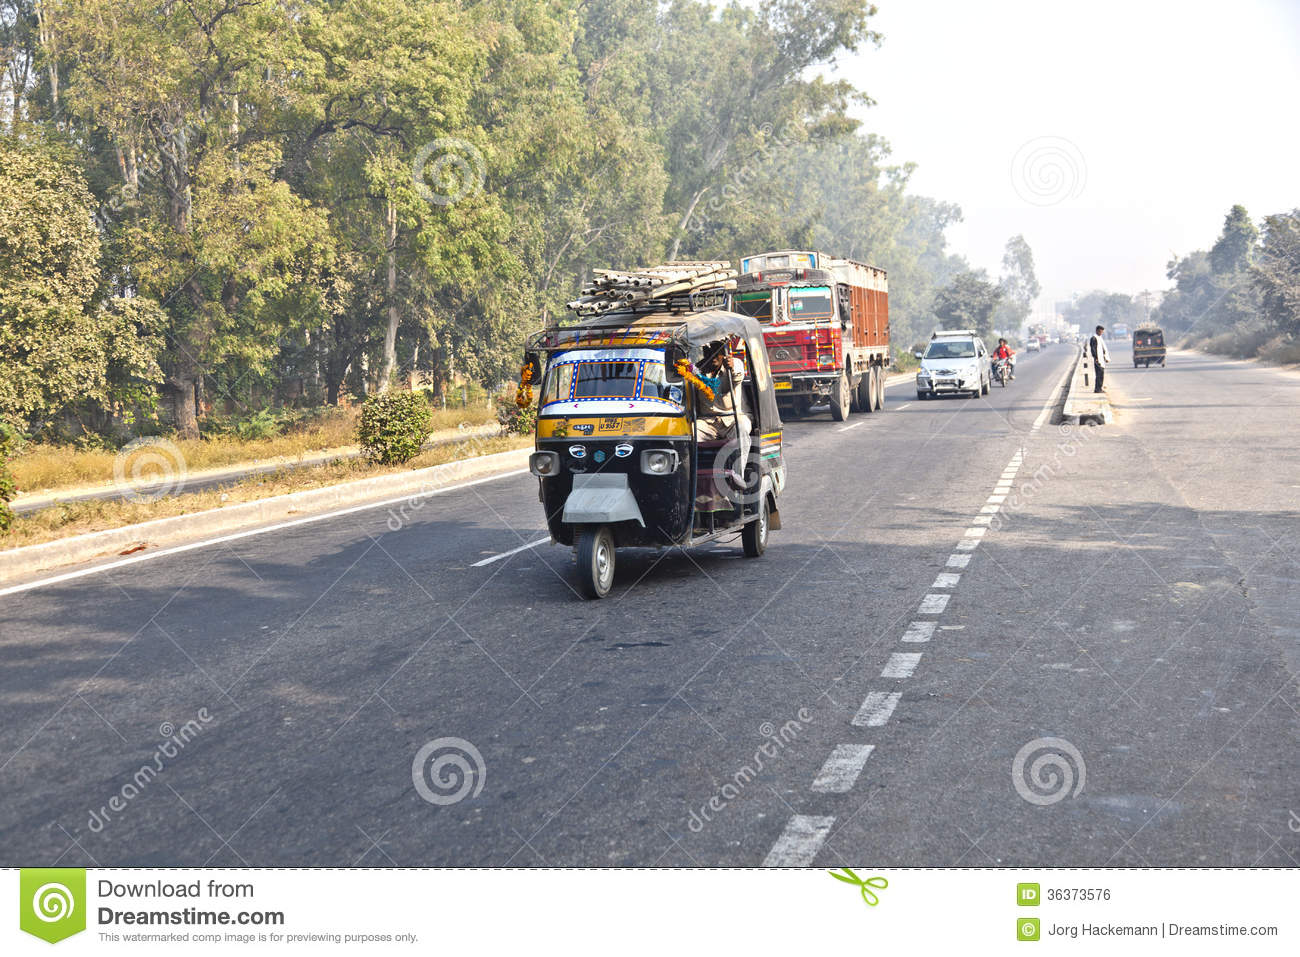Bike: (989, 339, 1021, 389)
Car: (908, 326, 992, 402)
Truck: (746, 249, 901, 431)
